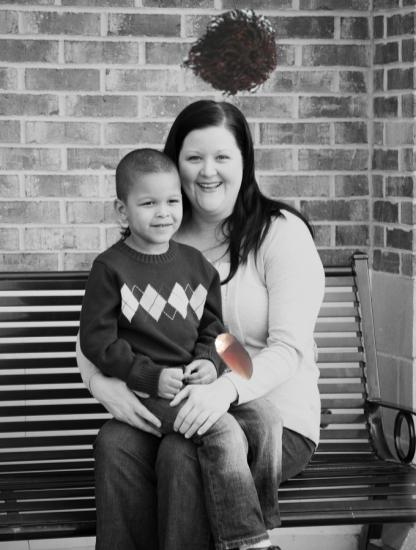Hazelnut: (207, 328, 264, 385)
Rambutan: (180, 5, 281, 106)
